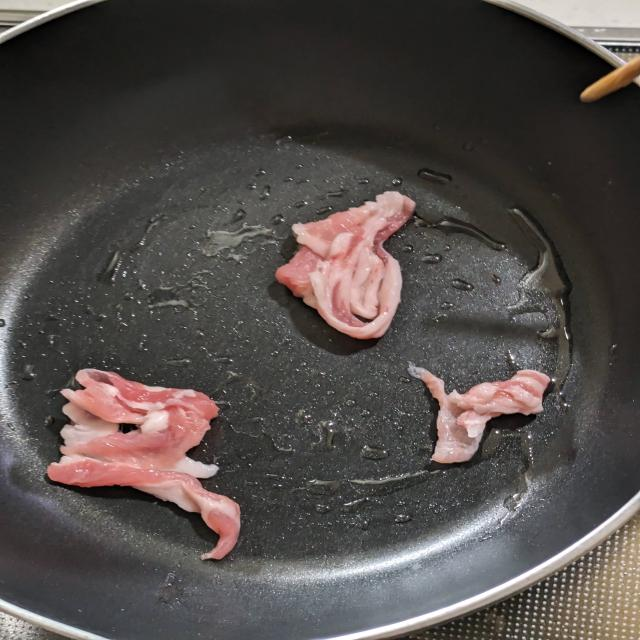NG raw pork,: (36, 361, 253, 570), (267, 183, 439, 349), (394, 359, 553, 474)
